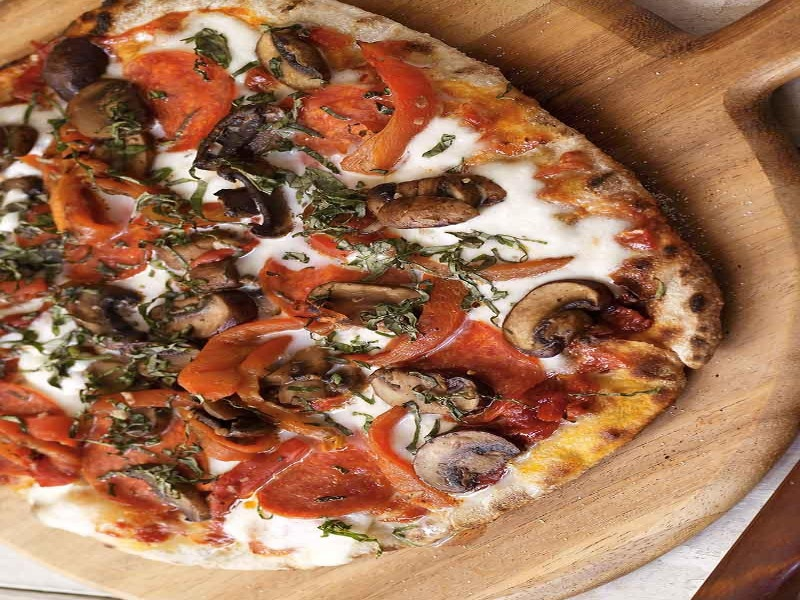champignon: (498, 280, 621, 358), (410, 427, 524, 497), (251, 25, 337, 95)
